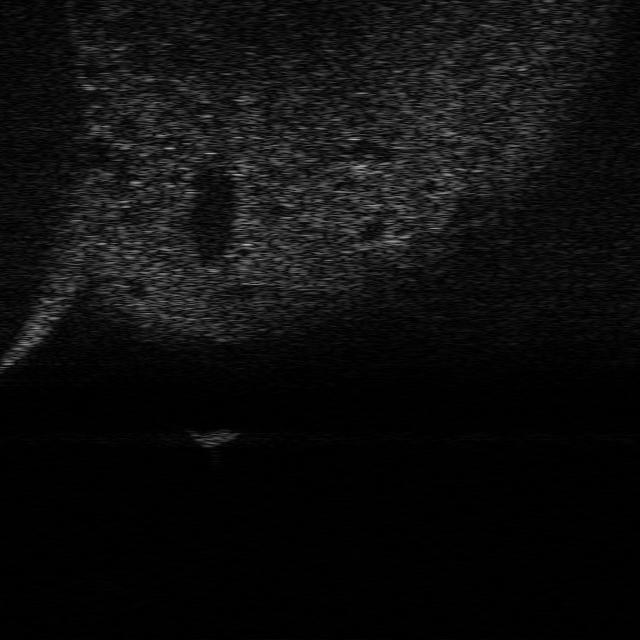cube: (184, 422, 241, 448)
